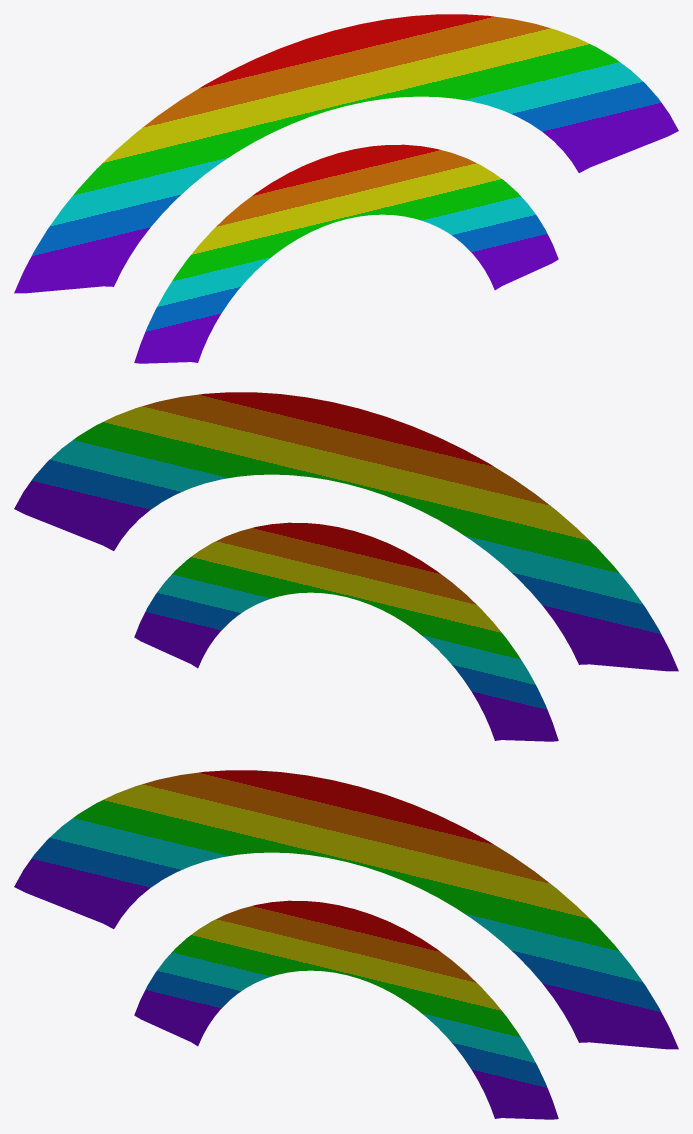
File: bg_rainbow_w.dae
3 views of the same model, one above another, from view 1: azimuth 30°, elevation 25°; view 2: azimuth 150°, elevation 25°; view 3: azimuth 330°, elevation 25° (orthographic).
Parts seen in each view (by area): view 1: bg_rainbow_w; view 2: bg_rainbow_w; view 3: bg_rainbow_w.
Boxes of the visible parts, <box> form: bg_rainbow_w: <box>14,14,678,363</box>; bg_rainbow_w: <box>14,392,678,741</box>; bg_rainbow_w: <box>14,770,678,1119</box>.
Size of the model in its own units: 860 by 370 by 0.
Materials: 1 (1 with a texture image).
